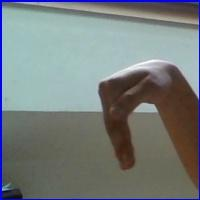A: (92, 52, 189, 178)
